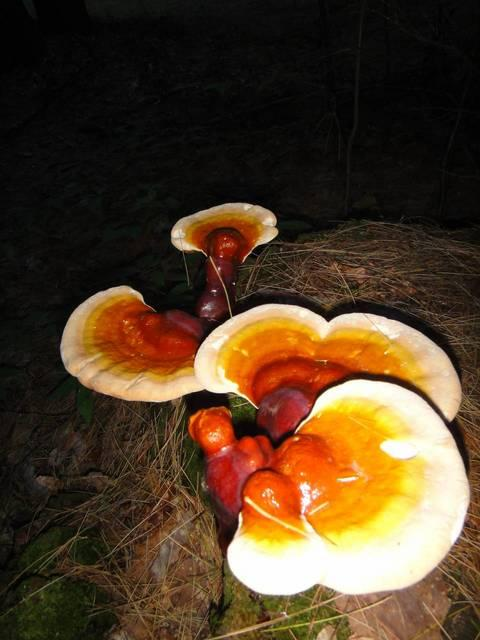poisonous_mushroom: (189, 301, 470, 596), (58, 283, 207, 403), (169, 200, 279, 322)
